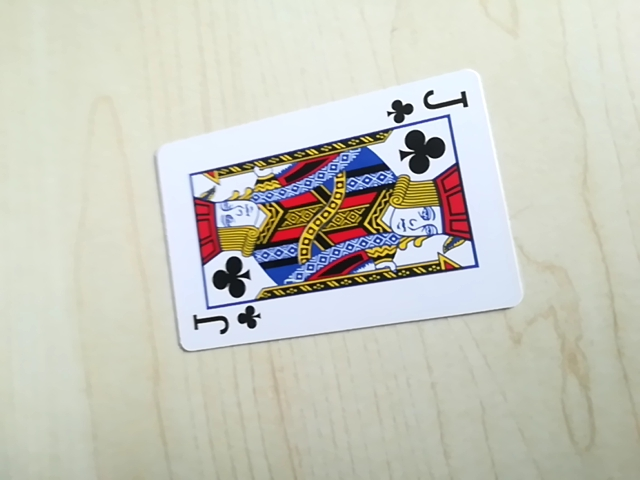mh j: (380, 87, 474, 124), (187, 300, 263, 345)
